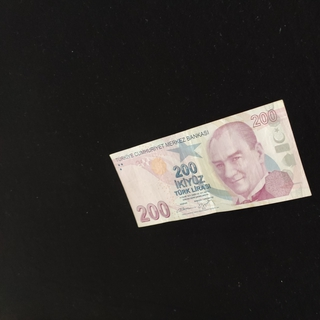200TLFront: (109, 99, 312, 227)
